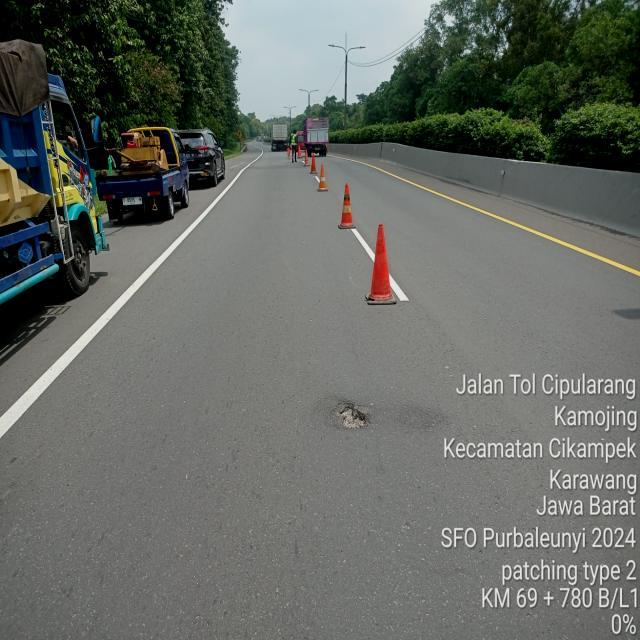Buraco: (328, 398, 376, 432)
